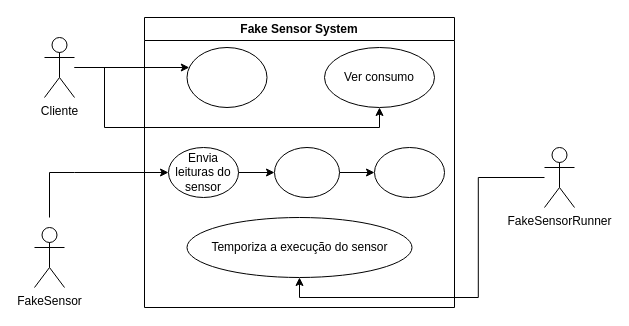
Image size: 629x326. Some labels were removed from this diagram. The centre of each missing label's shape, as x and y in pixels:
"Emite Alertas" belongs at point 409,172.
"Recebe Alerta" belongs at point 226,77.
"Registra o consumo" belongs at point 307,172.
